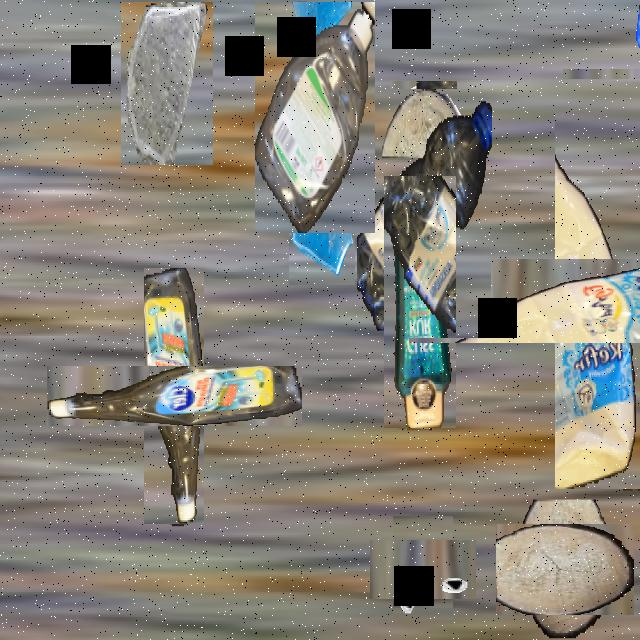glass: (121, 2, 213, 165), (289, 167, 355, 285), (596, 35, 640, 113)
metal: (382, 527, 464, 611)
plastic: (482, 185, 640, 416), (357, 89, 491, 338), (255, 2, 375, 233), (95, 318, 253, 476), (384, 176, 456, 428)
wood: (508, 511, 622, 627), (386, 85, 462, 160)
